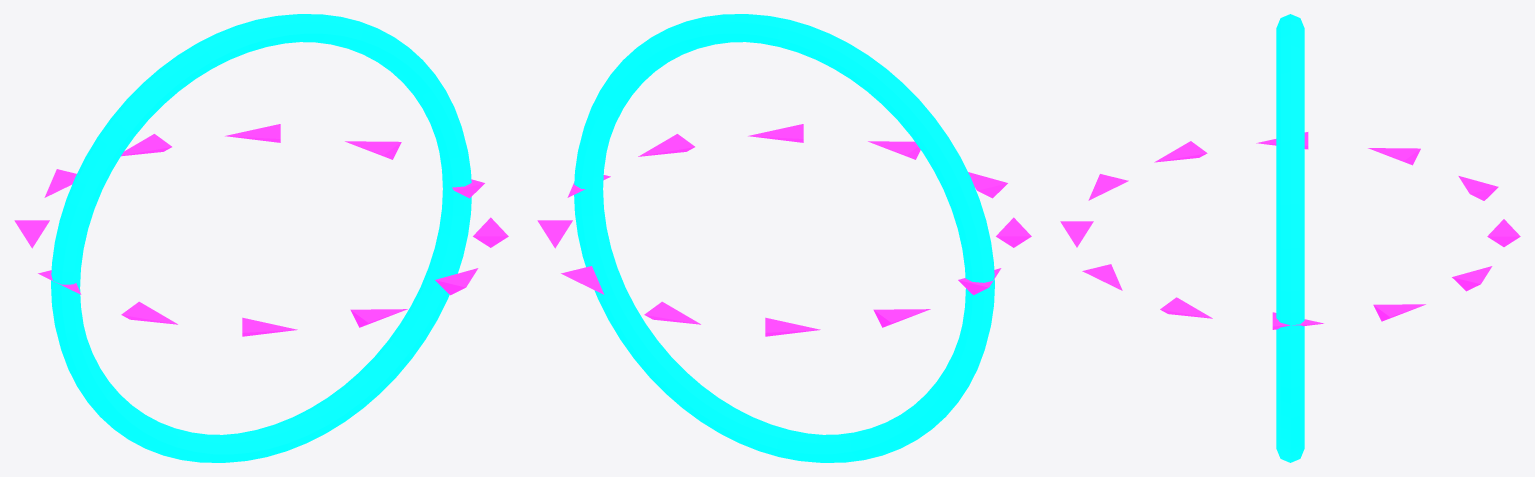
File: ring_saw.glb
3 renders of one model, left to right at view 1: azimuth 30°, elevation 25°; view 2: azimuth 150°, elevation 25°; view 3: azimuth 270°, elevation 25°, orthographic. The views are drawn at different scales.
Parts seen in each view (by area): view 1: RingSawCyanBladeRing, RingSawCutterTooth7, RingSawCutterTooth3, RingSawCutterTooth2, RingSawCutterTooth8, RingSawCutterTooth11, RingSawCutterTooth9, RingSawCutterTooth1, RingSawCutterTooth10, RingSawCutterTooth5; view 2: RingSawCyanBladeRing, RingSawCutterTooth11, RingSawCutterTooth3, RingSawCutterTooth10, RingSawCutterTooth4, RingSawCutterTooth7, RingSawCutterTooth5, RingSawCutterTooth1, RingSawCutterTooth2, RingSawCutterTooth8, RingSawCutterTooth9; view 3: RingSawCyanBladeRing, RingSawCutterTooth11, RingSawCutterTooth7, RingSawCutterTooth1, RingSawCutterTooth3, RingSawCutterTooth4, RingSawCutterTooth5, RingSawCutterTooth2, RingSawCutterTooth9, RingSawCutterTooth10, RingSawCutterTooth8.
Boxes of the visible parts, <box> form: RingSawCyanBladeRing: <box>51,14,471,462</box>; RingSawCutterTooth7: <box>121,301,177,324</box>; RingSawCutterTooth3: <box>121,134,171,156</box>; RingSawCutterTooth2: <box>225,124,280,142</box>; RingSawCutterTooth8: <box>242,317,297,336</box>; RingSawCutterTooth11: <box>473,217,508,247</box>; RingSawCutterTooth9: <box>350,309,407,327</box>; RingSawCutterTooth1: <box>345,141,401,159</box>; RingSawCutterTooth10: <box>435,268,478,295</box>; RingSawCutterTooth5: <box>14,220,49,248</box>; RingSawCyanBladeRing: <box>574,14,994,462</box>; RingSawCutterTooth11: <box>638,134,694,156</box>; RingSawCutterTooth3: <box>644,301,700,324</box>; RingSawCutterTooth10: <box>748,124,803,142</box>; RingSawCutterTooth4: <box>765,317,820,336</box>; RingSawCutterTooth7: <box>996,217,1031,247</box>; RingSawCutterTooth5: <box>873,309,930,327</box>; RingSawCutterTooth1: <box>537,220,572,248</box>; RingSawCutterTooth2: <box>561,266,604,294</box>; RingSawCutterTooth8: <box>968,172,1007,198</box>; RingSawCutterTooth9: <box>868,141,920,159</box>; RingSawCyanBladeRing: <box>1276,14,1304,462</box>; RingSawCutterTooth11: <box>1160,297,1212,318</box>; RingSawCutterTooth7: <box>1154,141,1207,162</box>; RingSawCutterTooth1: <box>1373,304,1425,321</box>; RingSawCutterTooth3: <box>1487,219,1520,246</box>; RingSawCutterTooth4: <box>1458,176,1498,200</box>; RingSawCutterTooth5: <box>1368,148,1420,165</box>; RingSawCutterTooth2: <box>1452,266,1492,291</box>; RingSawCutterTooth9: <box>1060,221,1093,247</box>; RingSawCutterTooth10: <box>1082,264,1122,290</box>; RingSawCutterTooth8: <box>1088,174,1128,200</box>.
Bounding box in the file's own units: 1.74 × 1.7 × 1.74.
